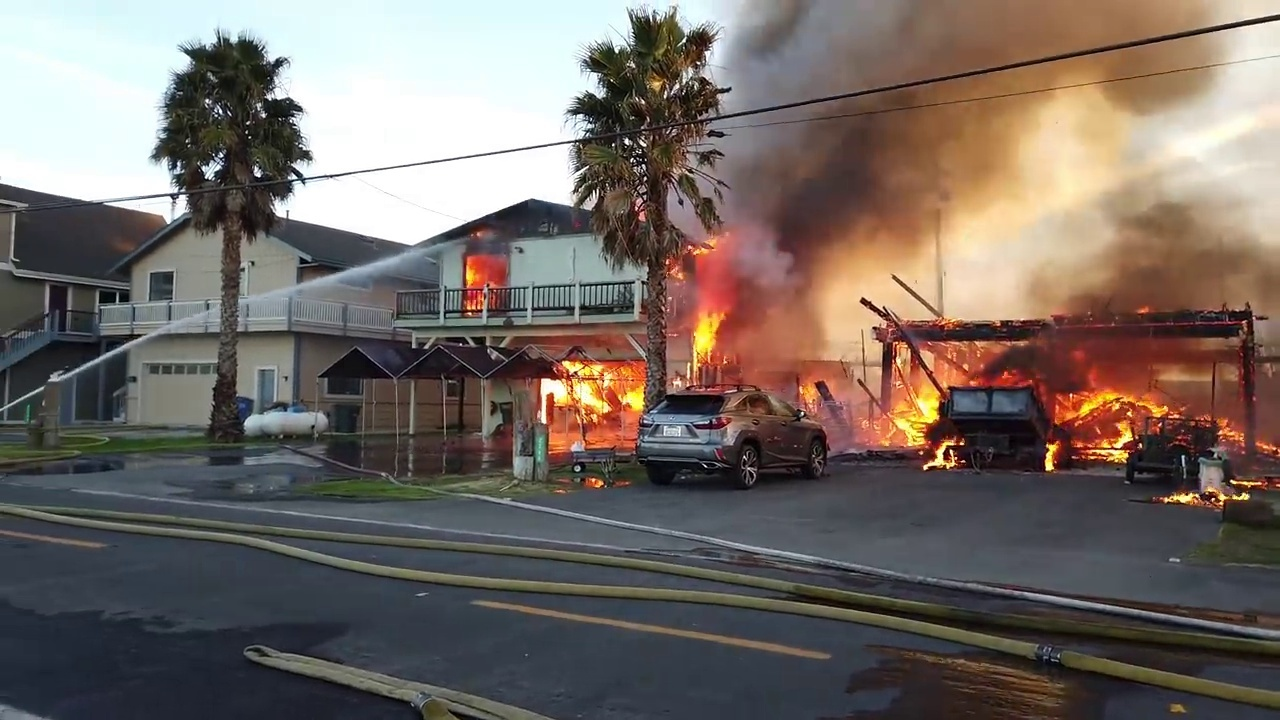fire: (873, 307, 1181, 466), (543, 354, 645, 413), (1150, 474, 1262, 504), (687, 303, 726, 378), (798, 378, 823, 410), (1212, 413, 1237, 436), (1255, 430, 1279, 449), (1135, 300, 1152, 310)
smoke: (713, 1, 1035, 259), (1023, 96, 1279, 383), (1039, 2, 1280, 101), (731, 259, 1022, 303), (731, 306, 874, 383), (1188, 385, 1239, 410)
